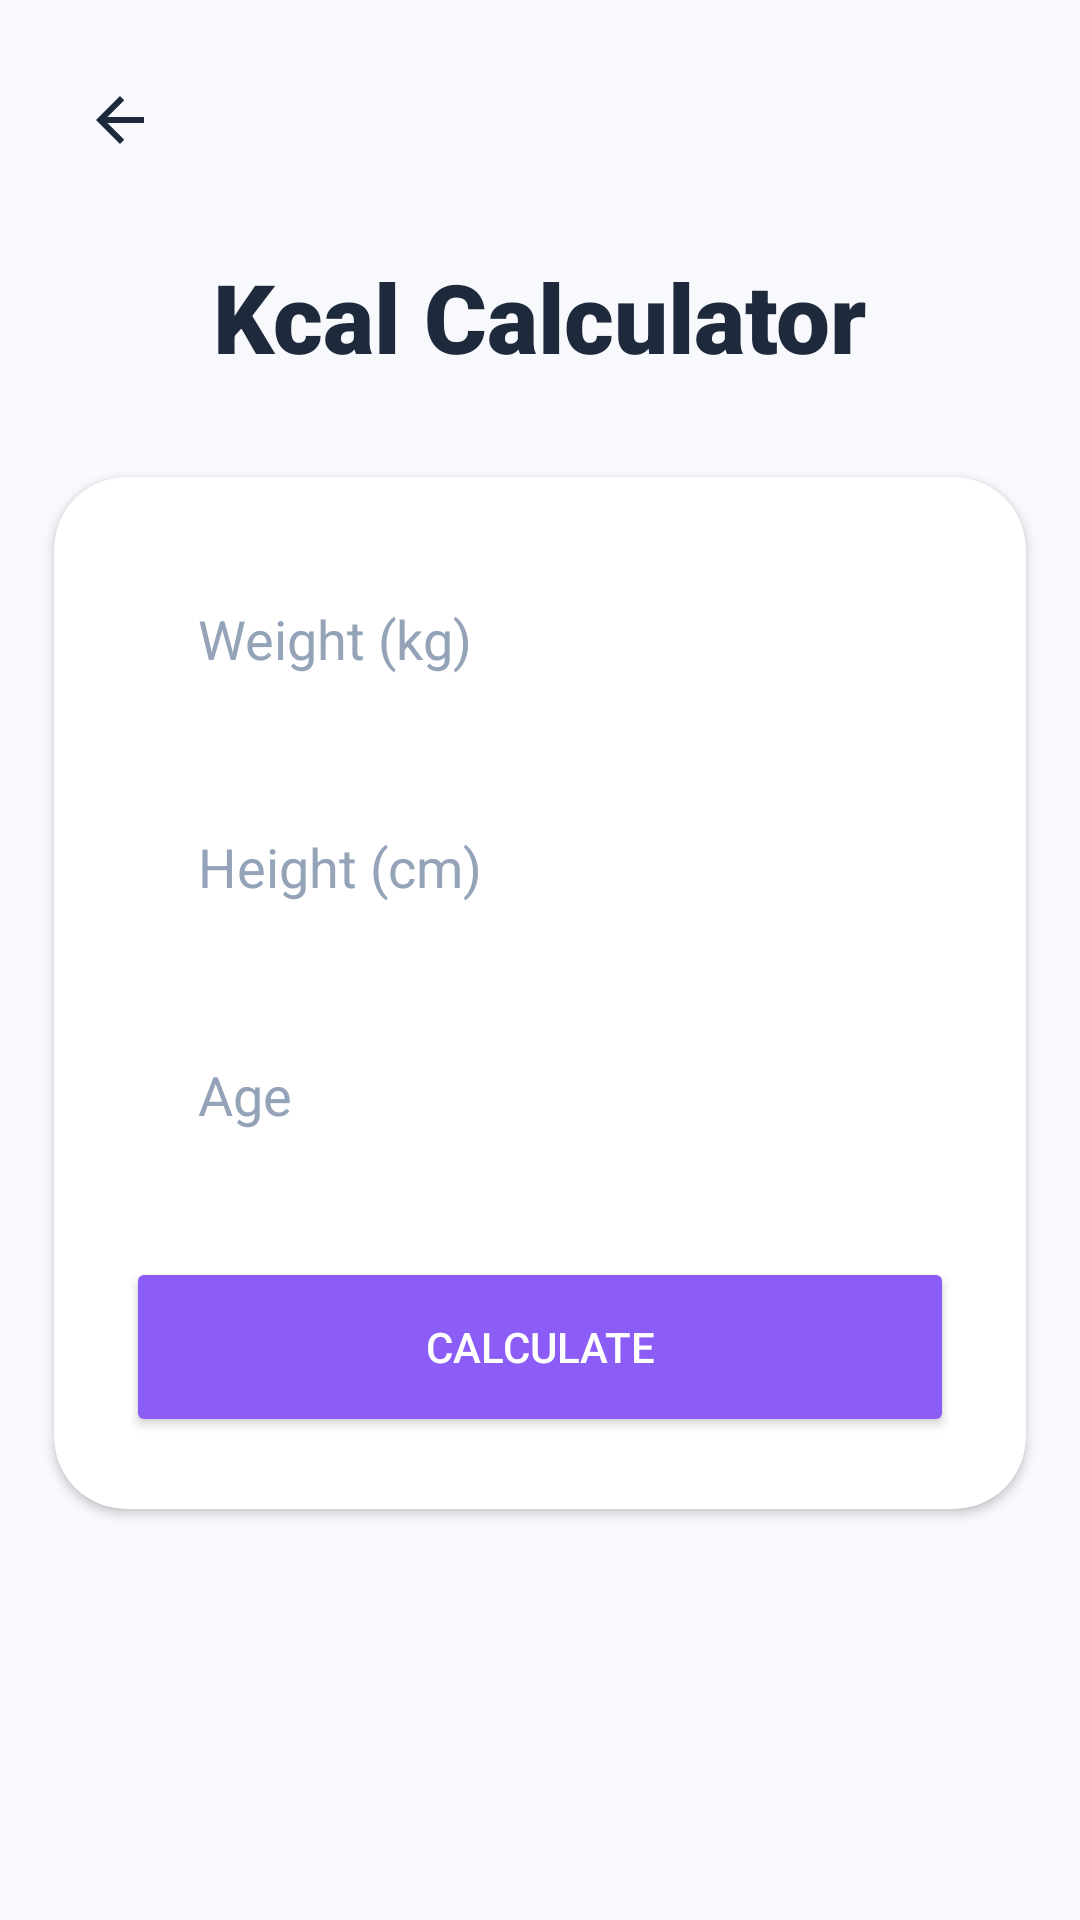

Icons on this 1080 × 1920 Android screen, each with the point to tap as (x,y):
Back: (120,120)
